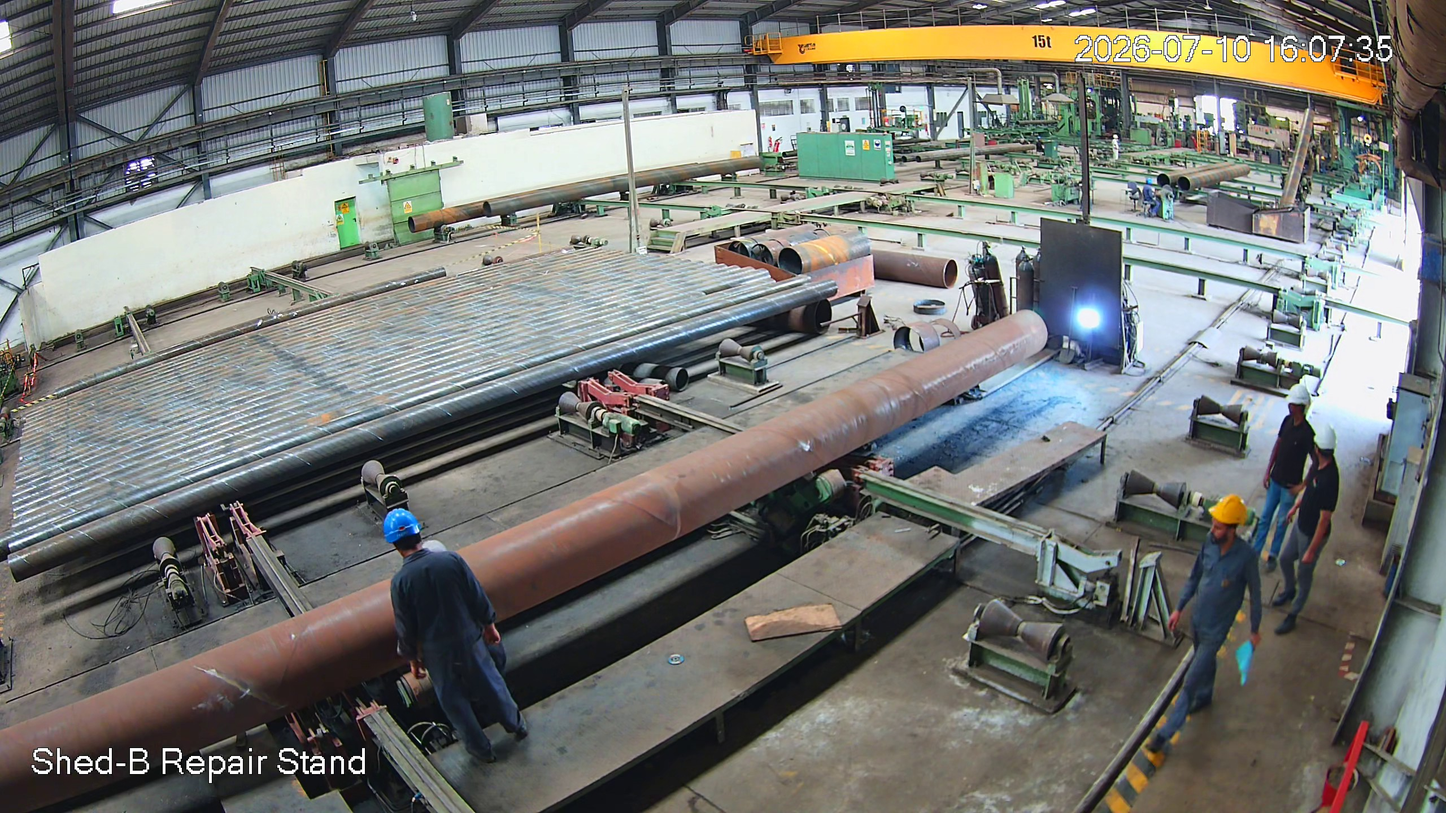Helmet: (378, 502, 448, 577), (1208, 490, 1259, 574), (1303, 422, 1351, 477), (1279, 370, 1323, 422)
Person: (367, 509, 558, 765), (1148, 503, 1266, 750), (1279, 426, 1348, 668), (1254, 379, 1313, 579)
